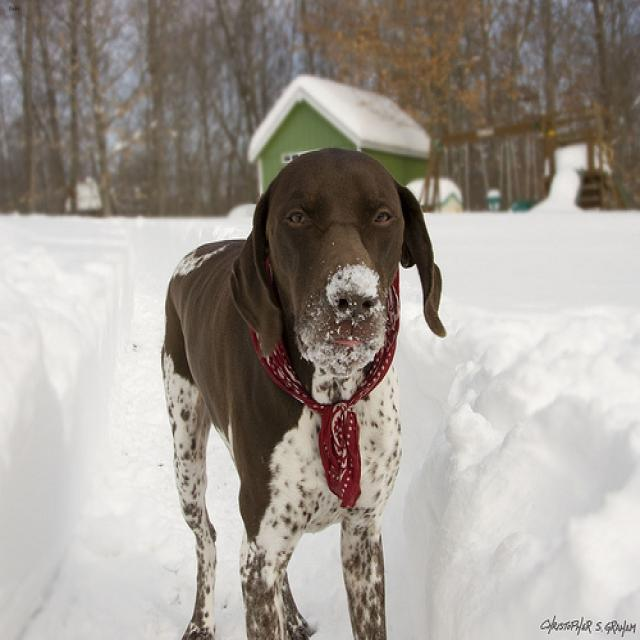dog-german_shorthaired: (146, 137, 457, 637)
